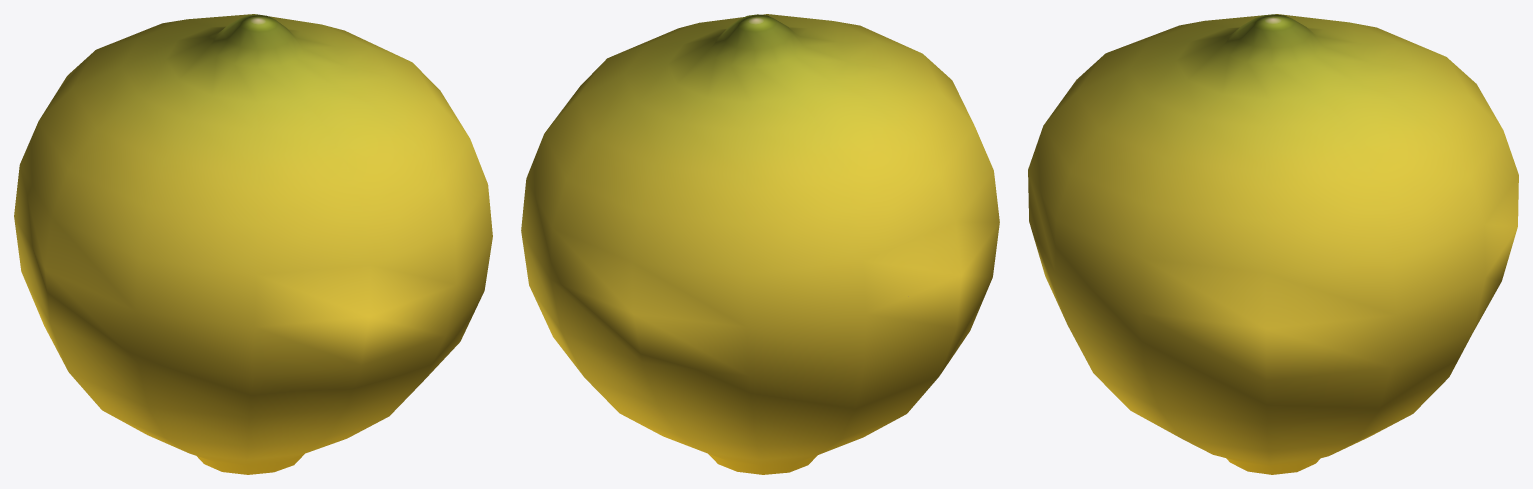
The model's file is Lemon.fbx.
3 renders of one model, left to right at view 1: azimuth 30°, elevation 25°; view 2: azimuth 150°, elevation 25°; view 3: azimuth 270°, elevation 25°, orthographic.
Visible parts, largest first — view 1: Lemon; view 2: Lemon; view 3: Lemon.
Part boxes in pixels (x1=…): Lemon: x1=14, y1=14, x2=492, y2=474; Lemon: x1=521, y1=14, x2=999, y2=474; Lemon: x1=1028, y1=14, x2=1518, y2=474.
Bounding box in the file's own units: 2.95 × 3.03 × 3.05.
